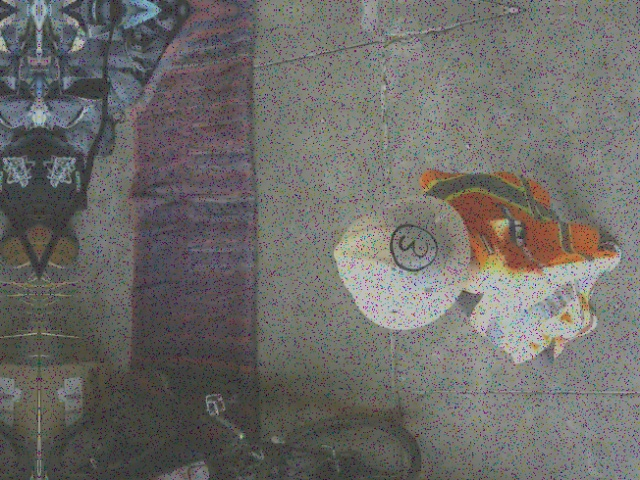three: (388, 222, 436, 270)
